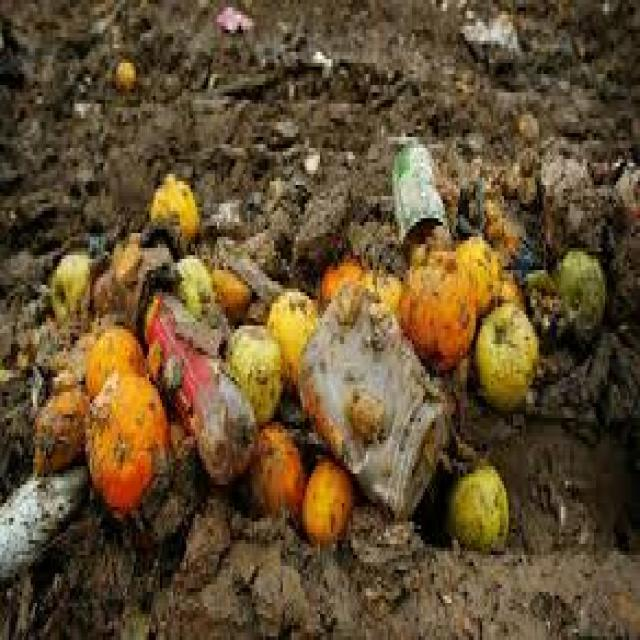food_waste: (56, 179, 540, 534)
